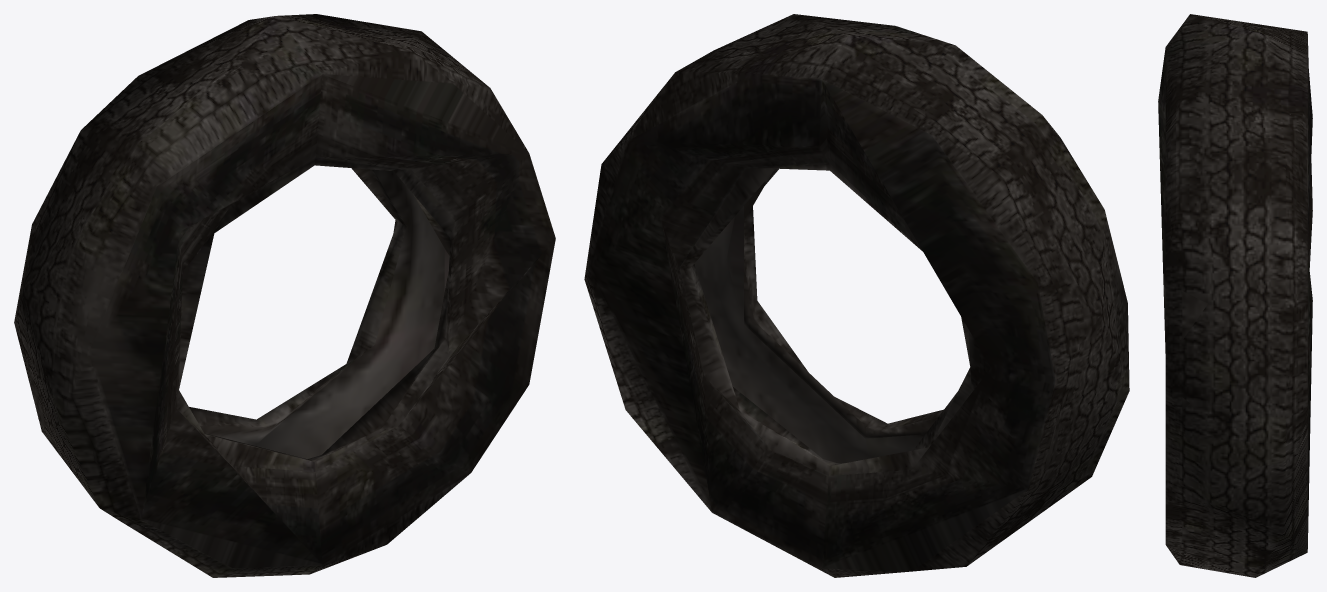
File: p_tyre.glb
The picture shows the model from 3 angles, left to right: view 1: azimuth 30°, elevation 25°; view 2: azimuth 150°, elevation 25°; view 3: azimuth 270°, elevation 25°; orthographic projection. The views are drawn at different scales.
Visible parts, largest first — view 1: old_tyre; view 2: old_tyre; view 3: old_tyre.
Boxes of the visible parts, x1=… form: old_tyre: x1=14, y1=14, x2=555, y2=577; old_tyre: x1=584, y1=14, x2=1129, y2=577; old_tyre: x1=1158, y1=14, x2=1312, y2=577.
Size of the model in its own units: 0.5873 by 0.5945 by 0.1621.
1 material, 1 textured.
